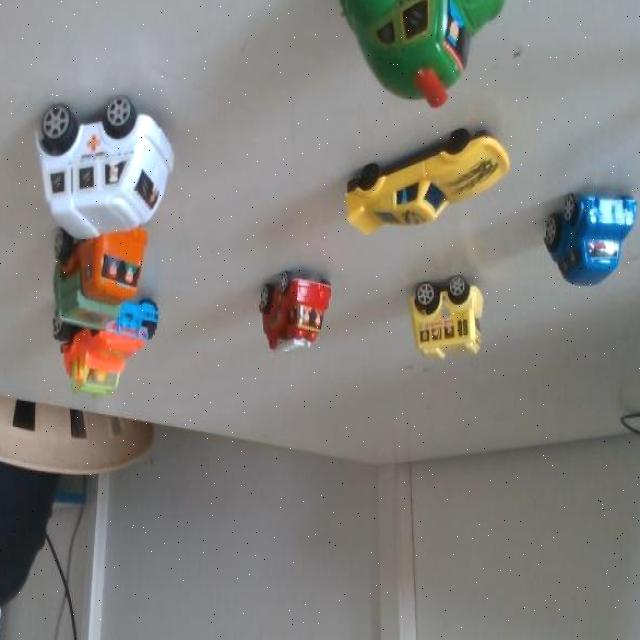car: (43, 69, 198, 261), (359, 117, 499, 246), (358, 0, 525, 100), (403, 260, 496, 366), (81, 292, 169, 404), (253, 250, 333, 366), (72, 213, 142, 335), (559, 184, 639, 289)
